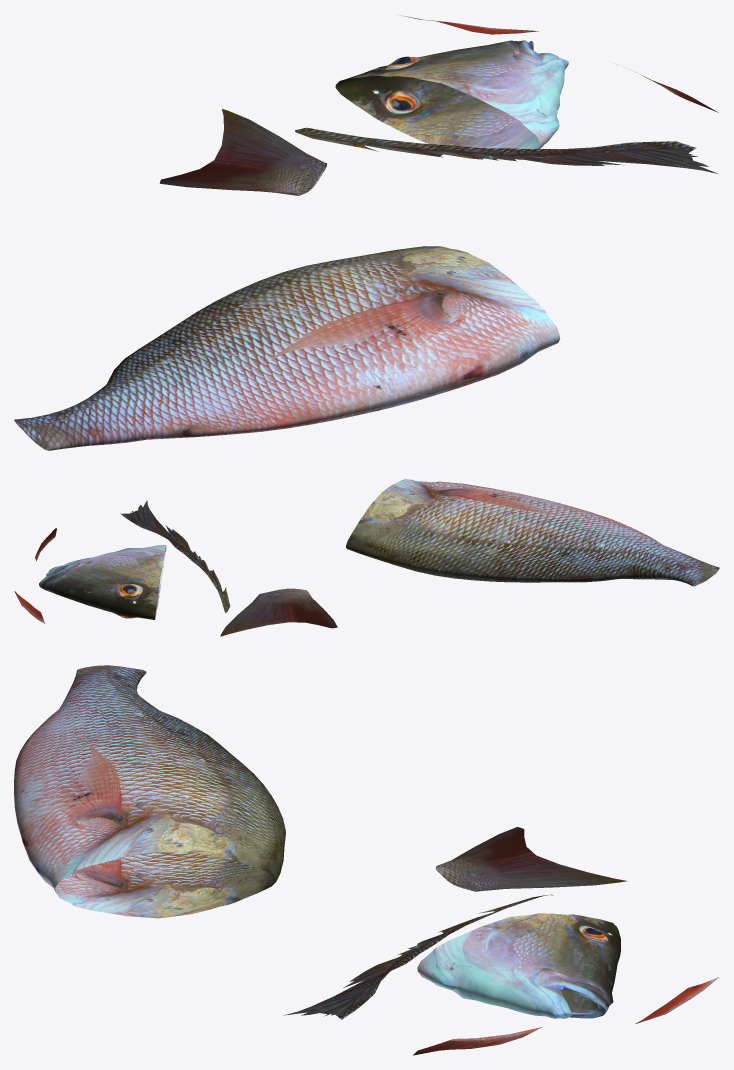
File: Fish_State_3.fbx
3 renders of one model, top to bottom at view 1: azimuth 30°, elevation 25°; view 2: azimuth 150°, elevation 25°; view 3: azimuth 270°, elevation 25°, orthographic. The views are drawn at different scales.
Parts seen in each view (by area): view 1: Body, Head, Tail, Fins; view 2: Body, Head, Tail, Fins; view 3: Body, Head, Tail, Fins.
Part boxes in pixels (x1,y1,x2,y2): Body: (14,246,560,450); Head: (335,40,568,148); Tail: (159,109,326,195); Fins: (295,14,718,173); Body: (346,479,719,586); Head: (39,545,166,619); Tail: (220,588,337,636); Fins: (14,500,230,623); Body: (14,665,285,918); Head: (417,913,620,1018); Tail: (435,827,627,891); Fins: (283,894,718,1055).
Size of the model in its own units: 13.2 by 1.23 by 10.46.
